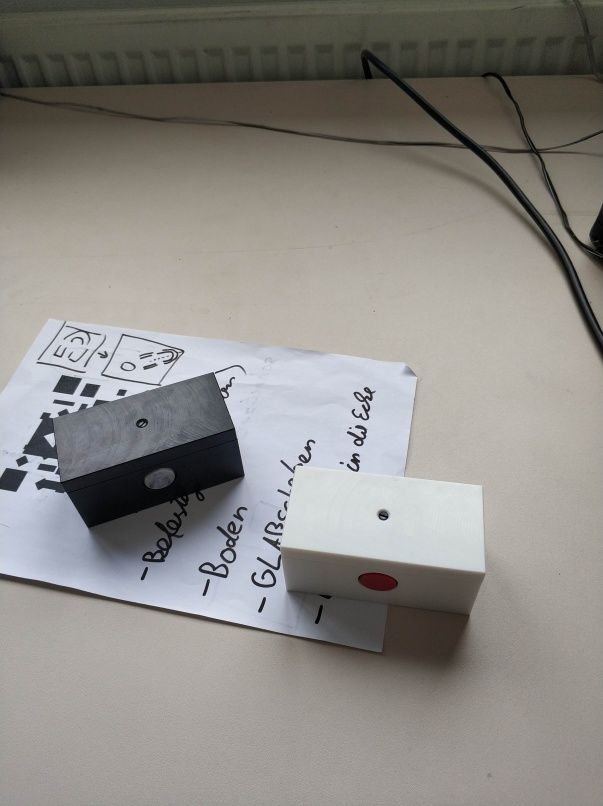black+black+silver: (51, 371, 247, 533)
white+white+red: (276, 462, 488, 619)
